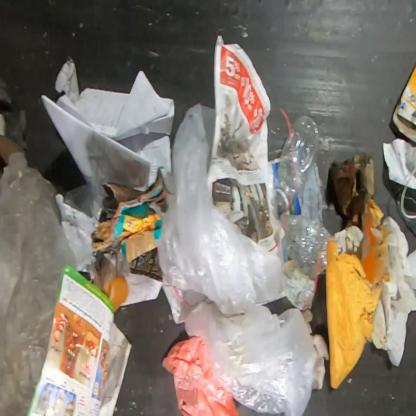cardboard: (325, 199, 391, 389), (93, 166, 173, 265), (327, 152, 374, 236), (391, 27, 415, 152)
rigid_plastic: (269, 114, 321, 216), (286, 212, 344, 279)
soft_plastic: (158, 103, 317, 415), (0, 152, 81, 415), (0, 76, 28, 150)
